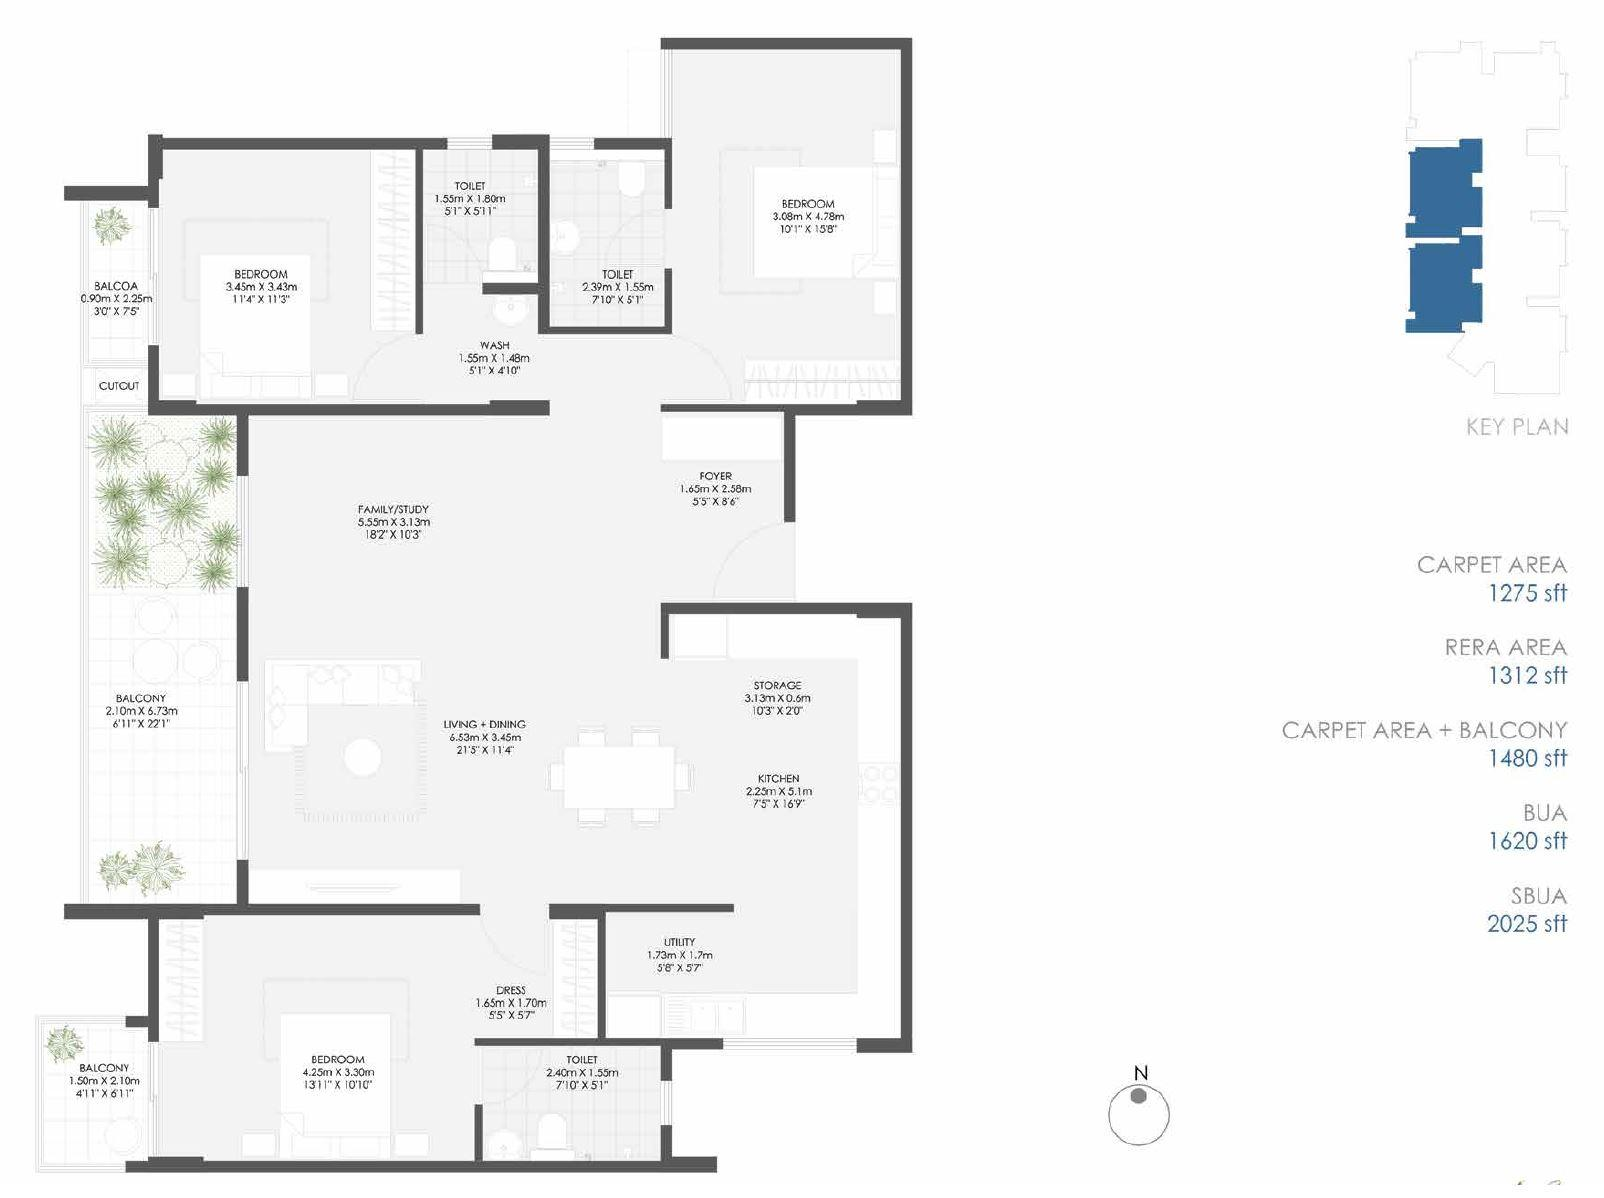Balcony: (91, 408, 238, 901), (36, 1017, 157, 1168)
Bed: (755, 161, 903, 282), (200, 250, 315, 406), (277, 1018, 396, 1160)
Bedroom: (671, 48, 906, 406), (156, 917, 471, 1162), (156, 150, 421, 404)
Dining Room: (520, 668, 726, 897)
Dining table: (532, 719, 703, 836)
Foyer: (655, 415, 789, 602), (660, 414, 785, 603)
Kitchen: (718, 615, 898, 1043)
Living Room: (243, 658, 523, 905)
Sofa: (260, 657, 415, 702), (262, 659, 307, 745)
Wardrobe: (360, 148, 416, 333), (745, 355, 905, 406), (550, 914, 601, 1044), (662, 413, 789, 462), (162, 910, 204, 1038)
balcoa: (84, 199, 151, 355)
commode: (614, 155, 653, 200), (528, 1110, 576, 1146), (487, 233, 522, 273)
door: (650, 312, 747, 408), (707, 520, 789, 612), (224, 673, 260, 858), (337, 322, 419, 395), (596, 205, 677, 271), (467, 1034, 540, 1105), (483, 910, 545, 992), (421, 214, 488, 289), (224, 468, 262, 580), (145, 1039, 166, 1160)
dress: (467, 906, 601, 1034)
fridge: (669, 613, 727, 661)
kitchen-slab: (852, 615, 903, 1038), (666, 990, 905, 1044), (725, 617, 903, 667)
sink: (660, 993, 747, 1043), (543, 214, 586, 258), (481, 1120, 523, 1163), (483, 288, 528, 327)
stove: (852, 761, 897, 808)
study: (243, 415, 658, 656)
toilet: (477, 1044, 664, 1162), (549, 146, 666, 326), (423, 146, 540, 281)
tv: (299, 867, 411, 910)
utility: (606, 909, 735, 1037)
wash: (421, 292, 543, 400)
washing-machine: (606, 990, 663, 1043)
